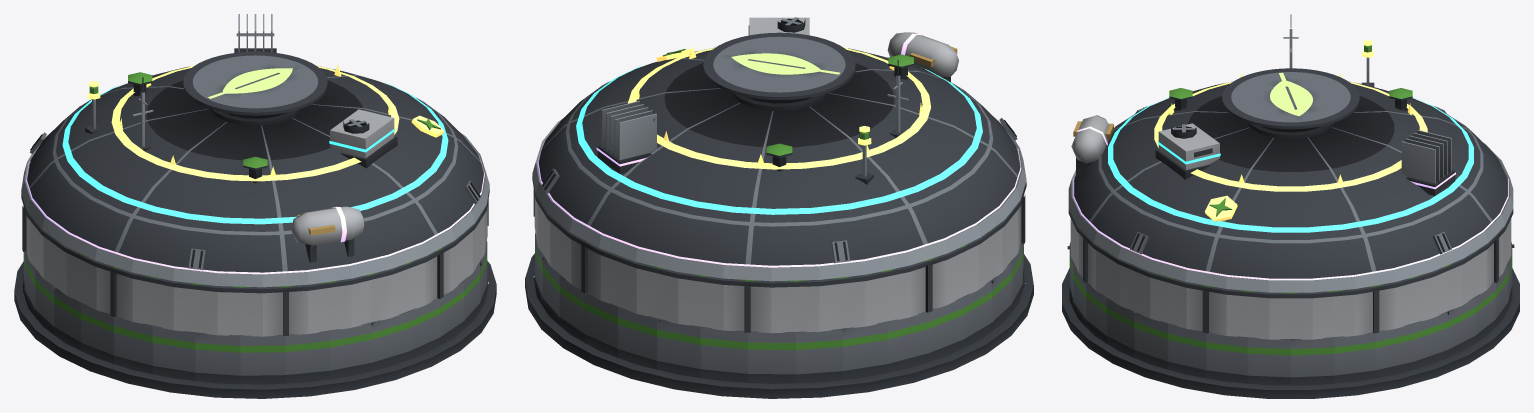
File: fungus_farm_s_far.glb
3 renders of one model, left to right at view 1: azimuth 30°, elevation 25°; view 2: azimuth 150°, elevation 25°; view 3: azimuth 270°, elevation 25°, orthographic. The views are drawn at different scales.
Visible parts, largest first — view 1: Roof, Base, L2, L3, L4, L5; view 2: Roof, Base, L2, L4, L3, L5; view 3: Roof, Base, L2, L3, L4, L5.
Boxes of the visible parts, <box> form: Roof: <box>21,51,489,336</box>; Base: <box>14,241,496,398</box>; L2: <box>21,77,489,287</box>; L3: <box>62,82,448,224</box>; L4: <box>26,14,484,274</box>; L5: <box>85,64,444,181</box>; Roof: <box>532,32,1026,333</box>; Base: <box>525,231,1033,398</box>; L2: <box>532,60,1026,281</box>; L4: <box>537,32,1021,267</box>; L3: <box>576,17,982,214</box>; L5: <box>628,46,930,184</box>; Roof: <box>1068,68,1513,339</box>; Base: <box>1062,242,1519,398</box>; L2: <box>1068,14,1513,292</box>; L3: <box>1108,97,1473,232</box>; L4: <box>1071,115,1508,280</box>; L5: <box>1154,40,1427,221</box>.
Size of the model in its own units: 11.74 by 6.67 by 11.74.
